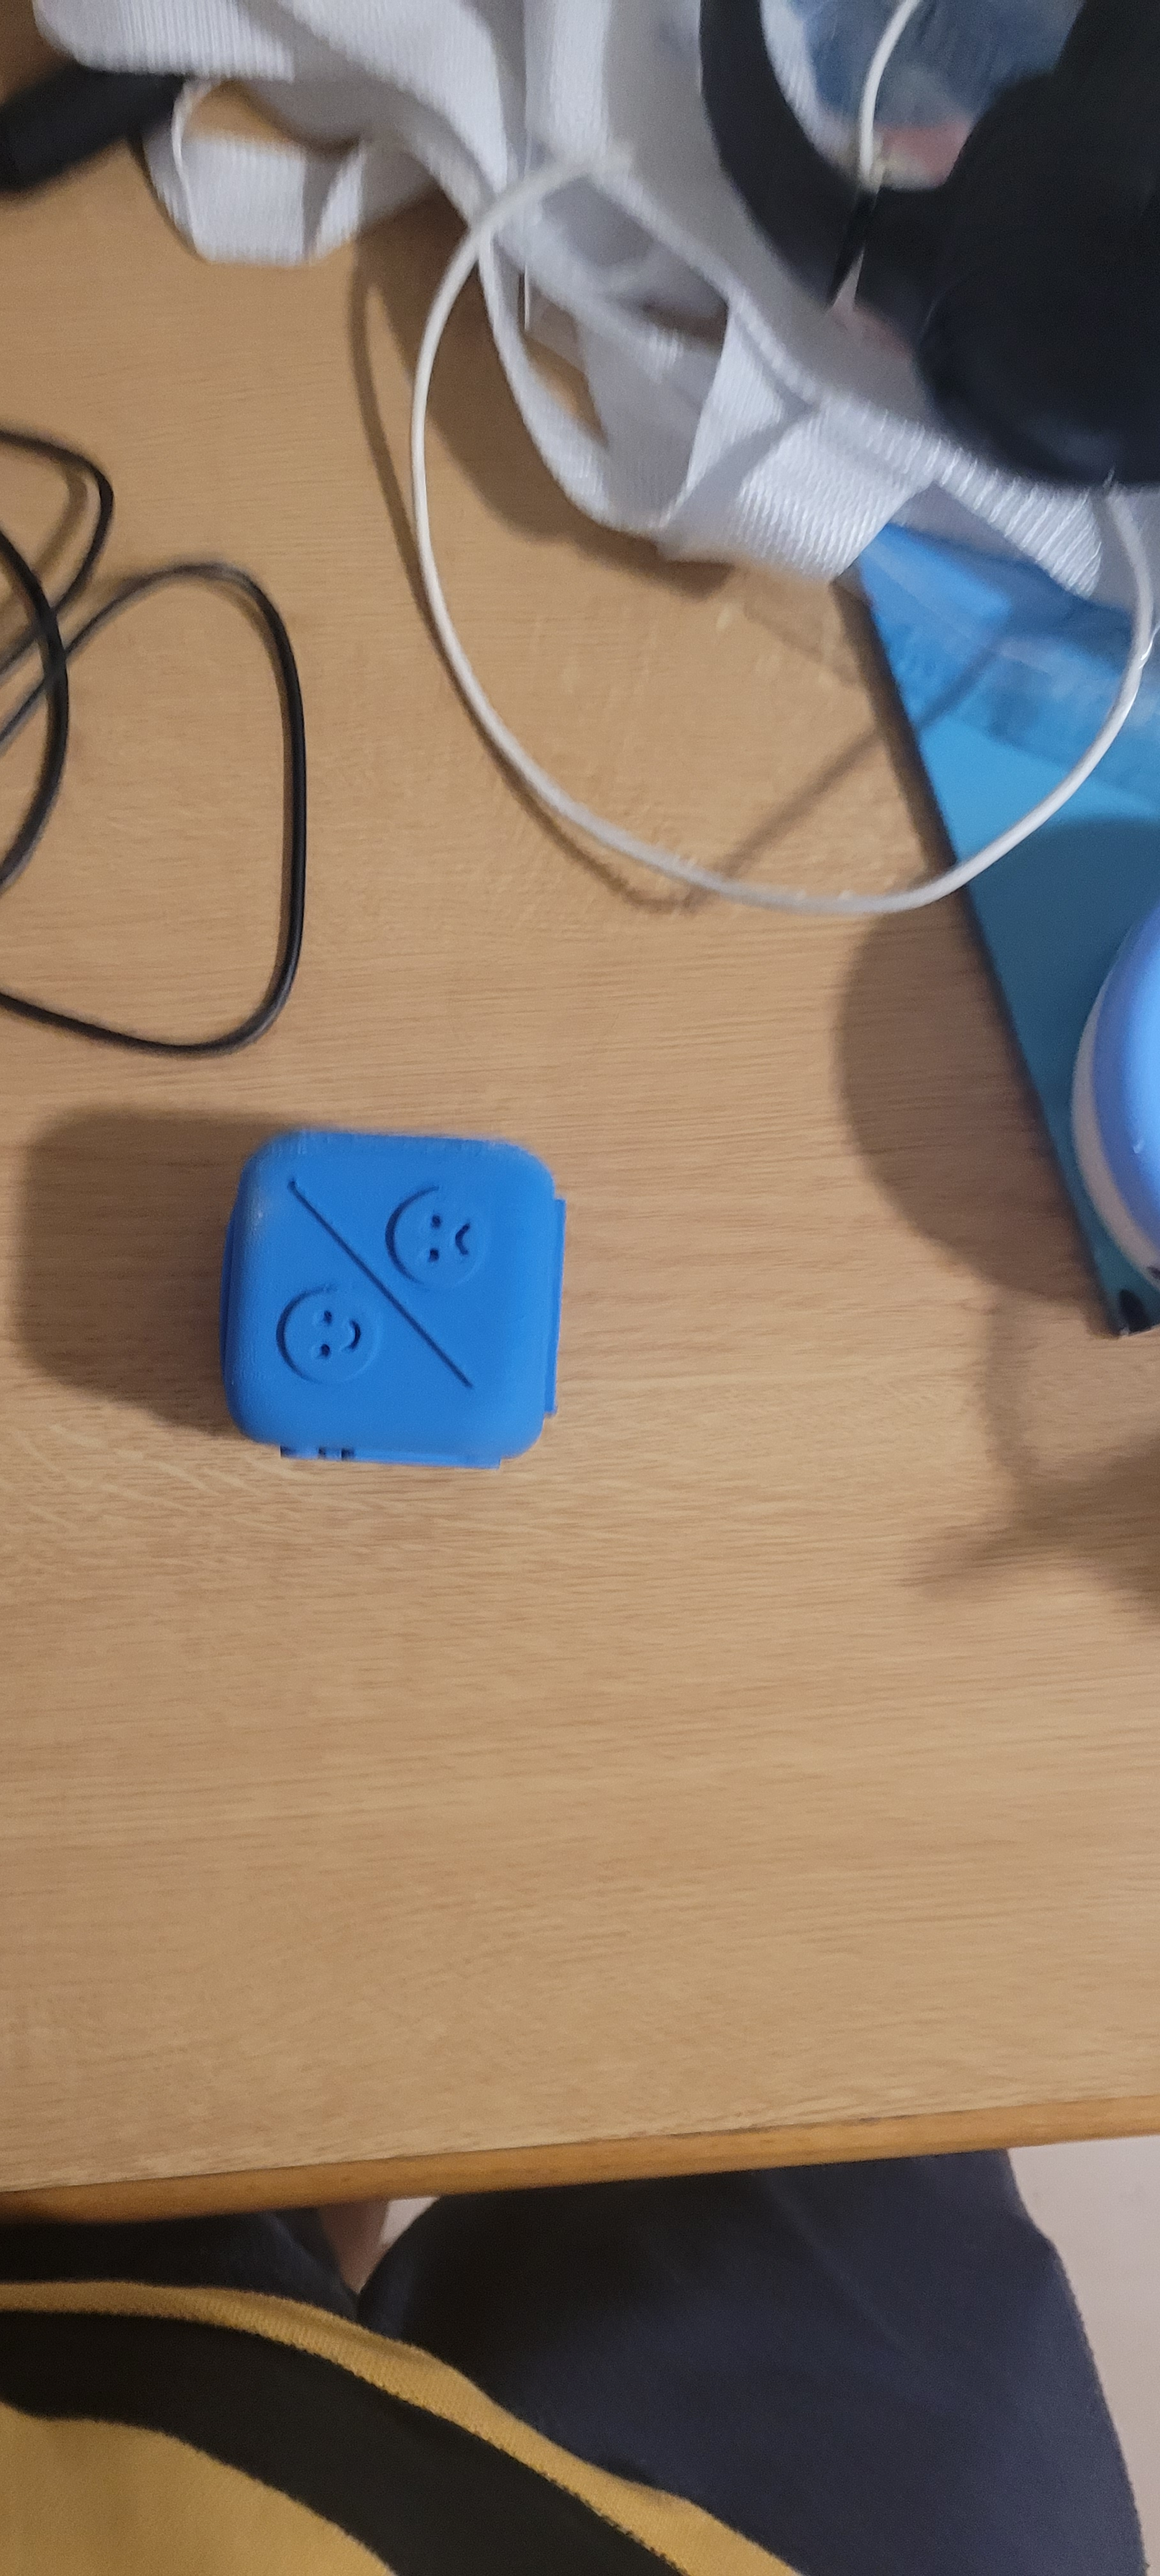Like/Dislike: (235, 1129, 559, 1444)
